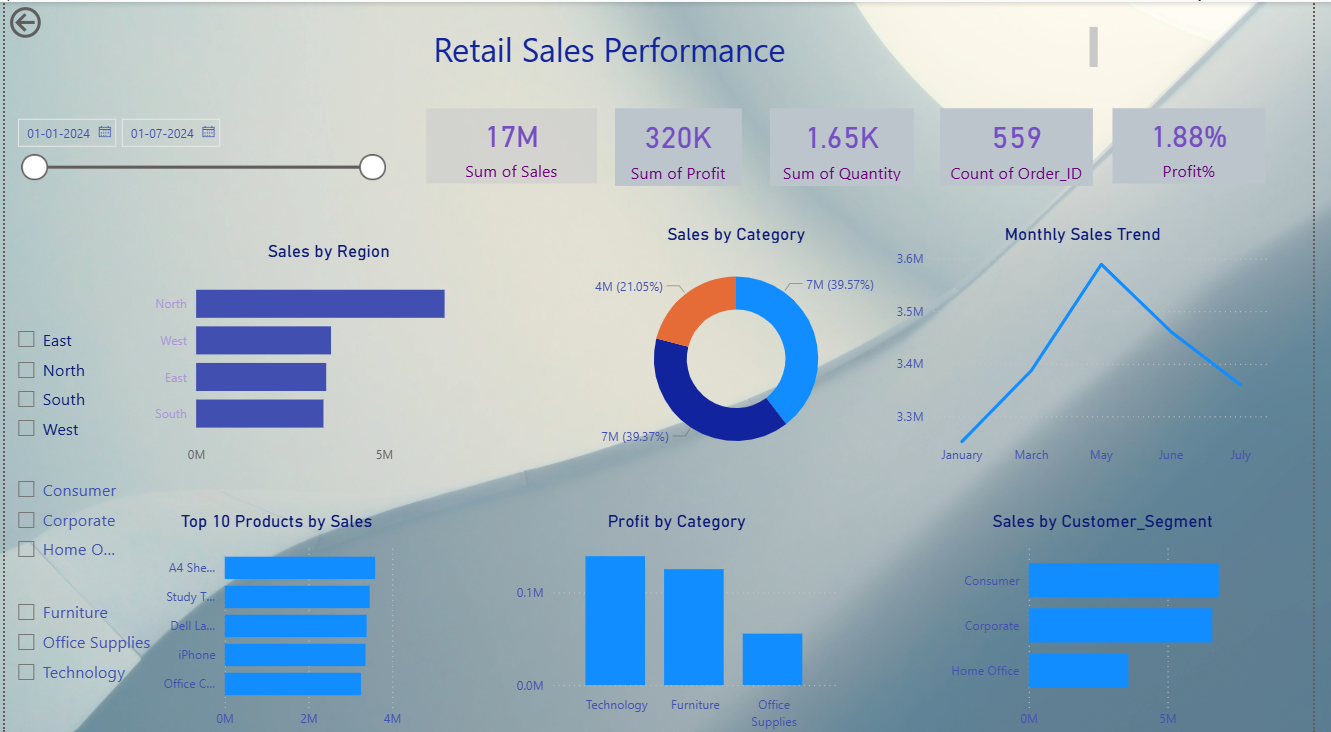

This screenshot's page, from the dashboard's own definition file:
{"tool":"powerbi","page":{"name":"Page 1","canvas":[1280,720],"ordinal":0},"visuals":[{"type":"card","fields":{"Values":["Sum(sales.Profit)"]},"box":[596.2,103.7,123.8,76.3],"z":0},{"type":"card","fields":{"Values":["Sum(sales.Quantity)"]},"box":[748.8,103.7,141.1,76.3],"z":1000},{"type":"card","title":"otal Orders","fields":{"Values":["CountNonNull(sales.Order_ID)"]},"box":[914.4,103.7,149.8,76.3],"z":2000},{"type":"barChart","title":"Sales by Region","fields":{"Category":["sales.Region"],"Y":["Sum(sales.Sales)"]},"box":[138.2,233.3,357.1,227.5],"z":4000},{"type":"actionButton","box":[0,0,100,40],"z":5000},{"type":"donutChart","title":"Sales by Category","fields":{"Category":["sales.Category"],"Y":["Sum(sales.Sales)"]},"box":[537.1,216,357.1,244.8],"z":6000},{"type":"lineChart","title":"Monthly Sales Trend","fields":{"Category":["sales.Order_Date.Variation.Date Hierarchy.Month"],"Y":["Sum(sales.Sales)"]},"box":[866.9,216,374.4,244.8],"z":7000},{"type":"barChart","title":"Top 10 Products by Sales","fields":{"Category":["sales.Product_Name"],"Y":["Sum(sales.Sales)"]},"box":[138.2,498.2,254.9,221.8],"z":8000},{"type":"lineStackedColumnComboChart","title":" Profit by Category","fields":{"Category":["sales.Category"],"Y":["Sum(sales.Profit)"]},"box":[495.4,498.2,324,221.8],"z":9000},{"type":"barChart","title":"Sales by Customer_Segment","fields":{"Category":["sales.Customer_Segment"],"Y":["Sum(sales.Sales)"]},"box":[914.4,498.2,318.2,221.8],"z":10000},{"type":"slicer","fields":{"Values":["sales.Region"]},"box":[0,311,145.4,159.8],"z":11000},{"type":"slicer","fields":{"Values":["sales.Category"]},"box":[0,577.4,149.8,126.7],"z":12000},{"type":"slicer","fields":{"Values":["sales.Customer_Segment"]},"box":[0,457.9,116.6,151.2],"z":13000},{"type":"slicer","fields":{"Values":["sales.Order_Date"]},"box":[0,103.7,380.2,109.4],"z":14000},{"type":"card","fields":{"Values":["sales.Profit%"]},"box":[1082.9,103.7,149.8,73.4],"z":15000},{"type":"textbox","box":[116.6,20.2,957.6,50.4],"z":16000},{"type":"card","fields":{"Values":["Sum(sales.Sales)"]},"box":[411.8,103.7,167,73.4],"z":16001}]}

Visuals, with their boxes in screenshot pixels (x1, y1, x2, y2), scaled from the page's 1280x720 canvas onto the 1331x732 screenshot:
card - Sum(sales.Profit): 620, 105, 749, 183
card - Sum(sales.Quantity): 779, 105, 925, 183
"otal Orders" card: 951, 105, 1107, 183
"Sales by Region" barChart: 144, 237, 515, 468
actionButton: 0, 0, 104, 41
"Sales by Category" donutChart: 559, 220, 930, 468
"Monthly Sales Trend" lineChart: 901, 220, 1291, 468
"Top 10 Products by Sales" barChart: 144, 507, 409, 731
" Profit by Category" lineStackedColumnComboChart: 515, 507, 852, 731
"Sales by Customer_Segment" barChart: 951, 507, 1282, 731
slicer - sales.Region: 0, 316, 151, 479
slicer - sales.Category: 0, 587, 156, 716
slicer - sales.Customer_Segment: 0, 466, 121, 619
slicer - sales.Order_Date: 0, 105, 395, 217
card - sales.Profit%: 1126, 105, 1282, 180
textbox: 121, 21, 1117, 72
card - Sum(sales.Sales): 428, 105, 602, 180
